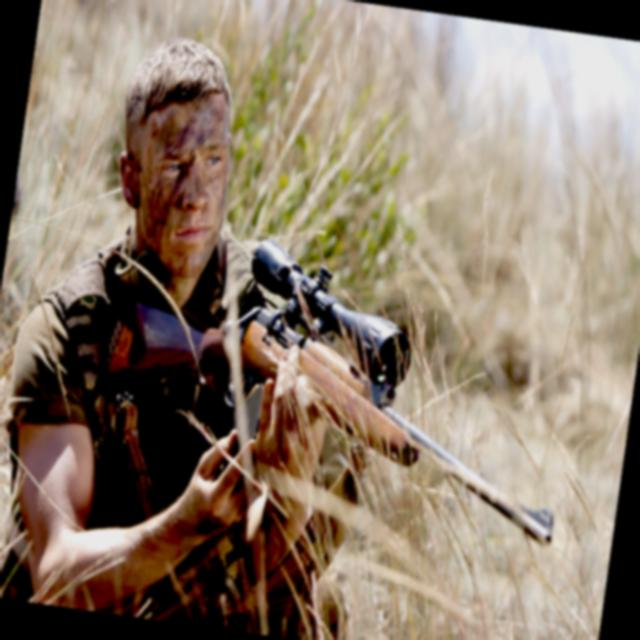rifle: (92, 218, 592, 560)
